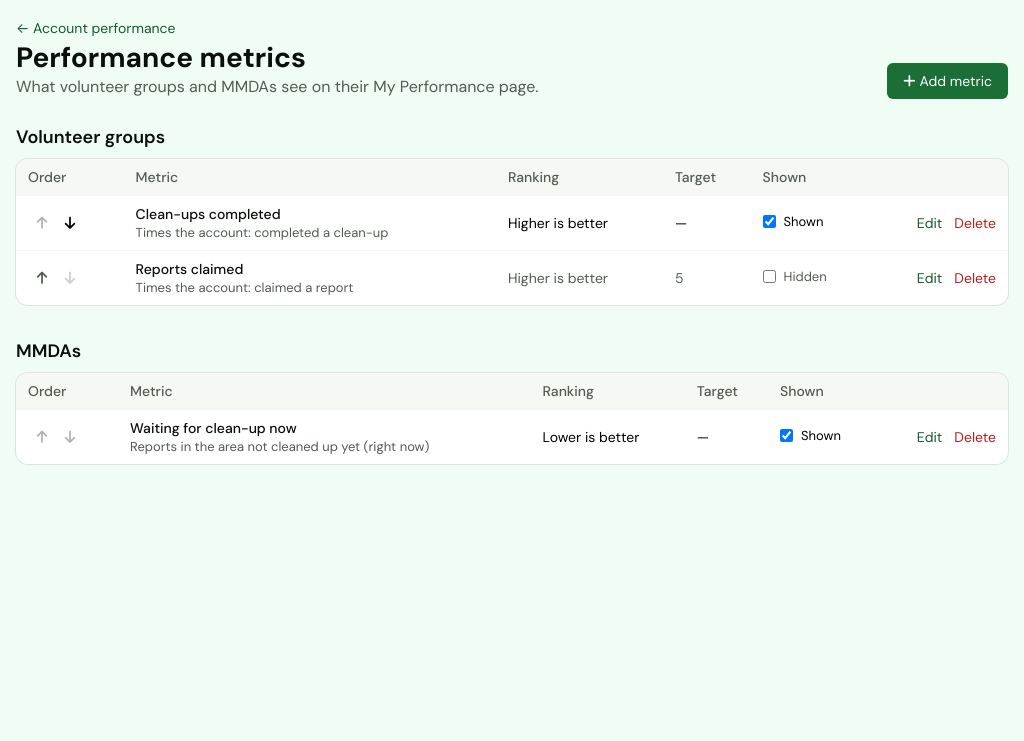
adds a metric: the form shows what is missing, then saves a valid row and logs it
expect the row with test id "row-volunteer-vol_cleanups_completed" is shown: met, box [16,196,1008,250]
Click the button "Add metric": (948, 81) [887,63,1008,99]
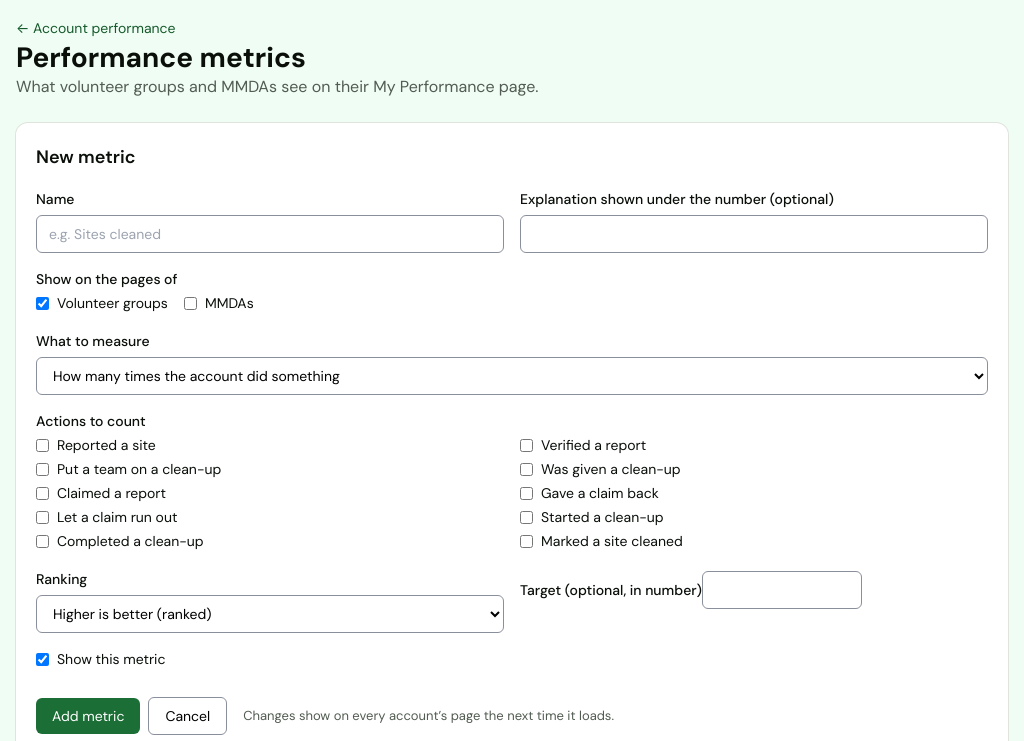
Click the button "Add metric": (88, 716) [36,698,140,734]
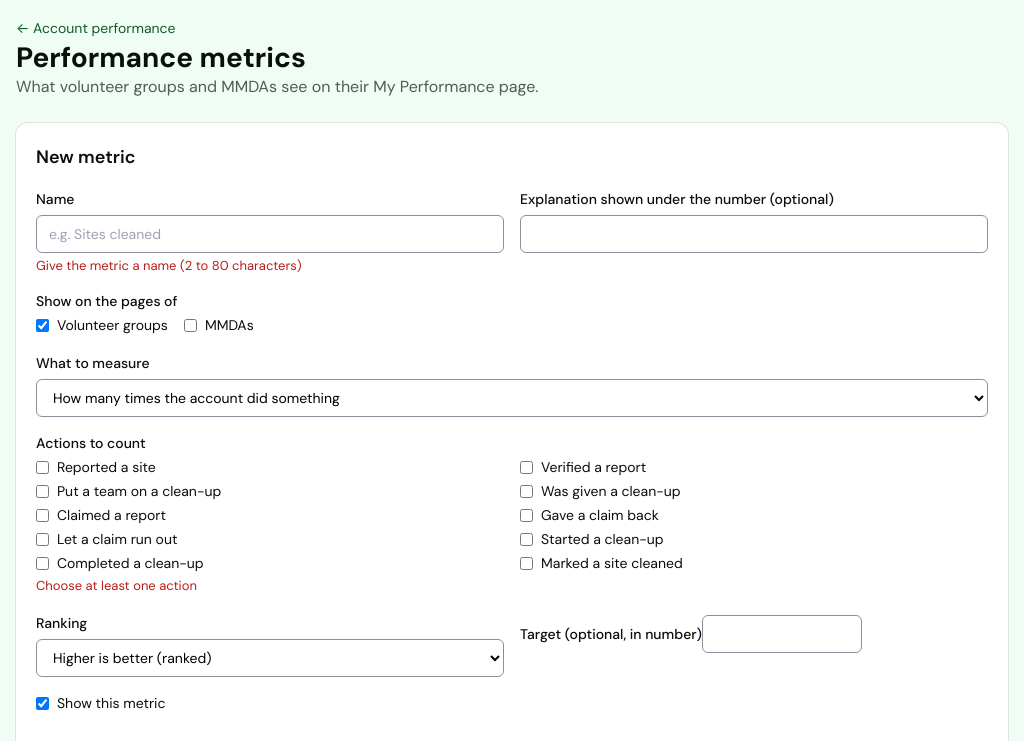
expect the text "Give the metric a name (2 to 80 characters)" is shown: met, box [36,257,302,274]
expect the text "Choose at least one action" is shown: met, box [36,577,197,594]
In the field labelled "Name": (270, 234) [36,215,504,253], type "Clean-ups started"
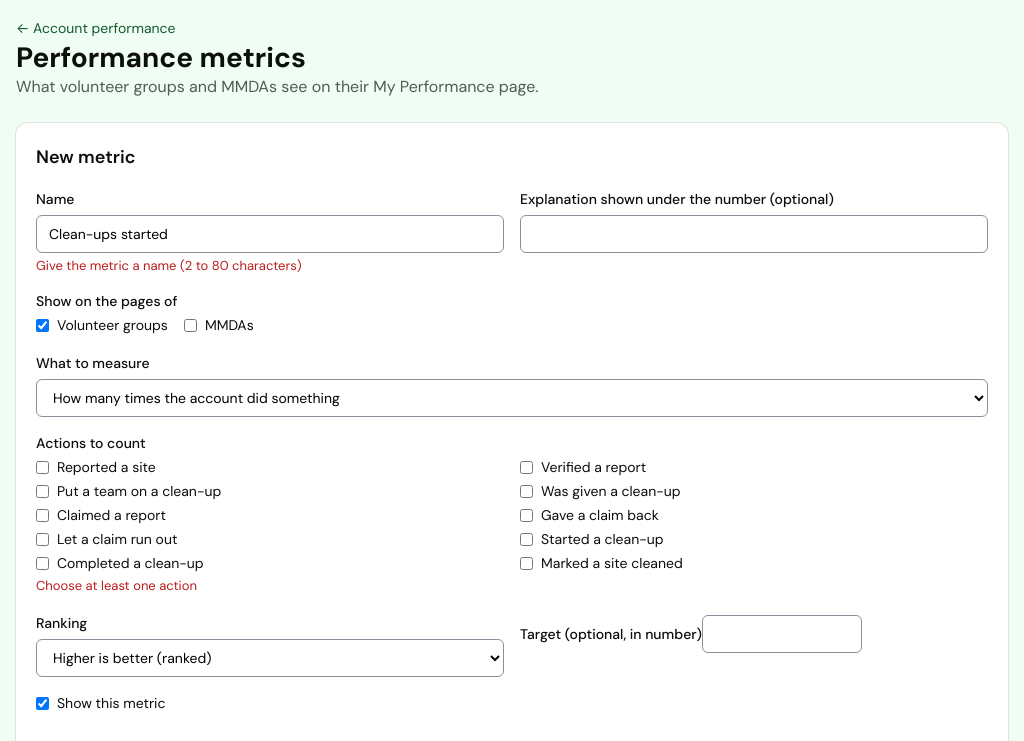
Click the checkbox labelled "Started a clean-up": (526, 539) [520,532,533,546]
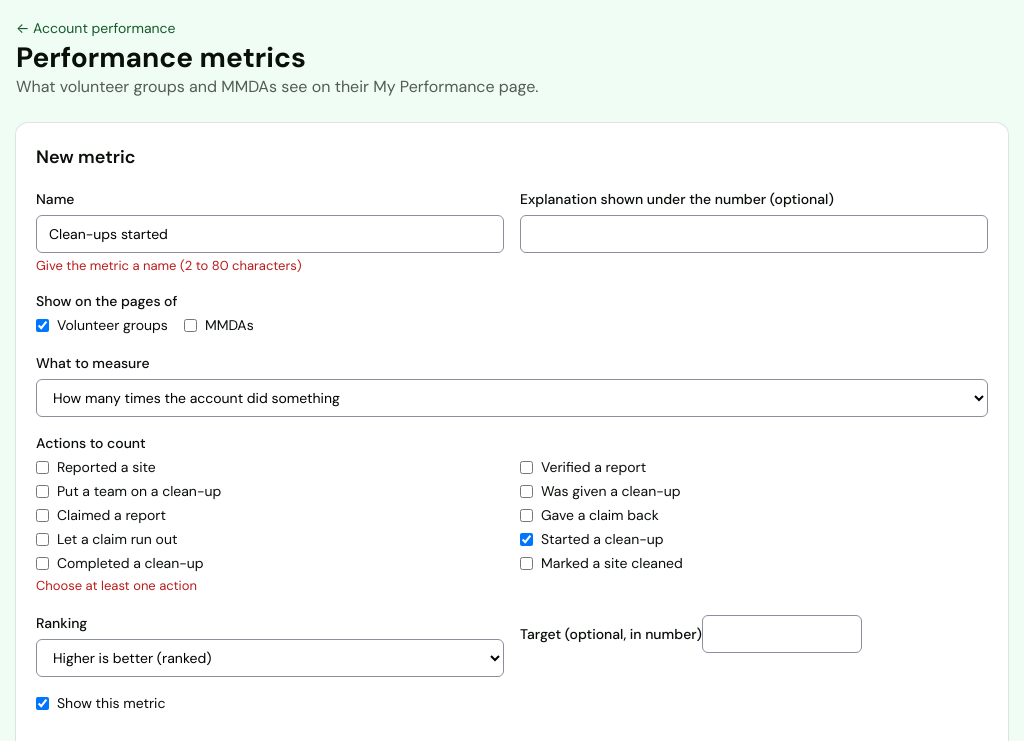
In the field labelled "Target (optional, in number)": (782, 634) [702,615,862,653], type "4"
(page scrolled)
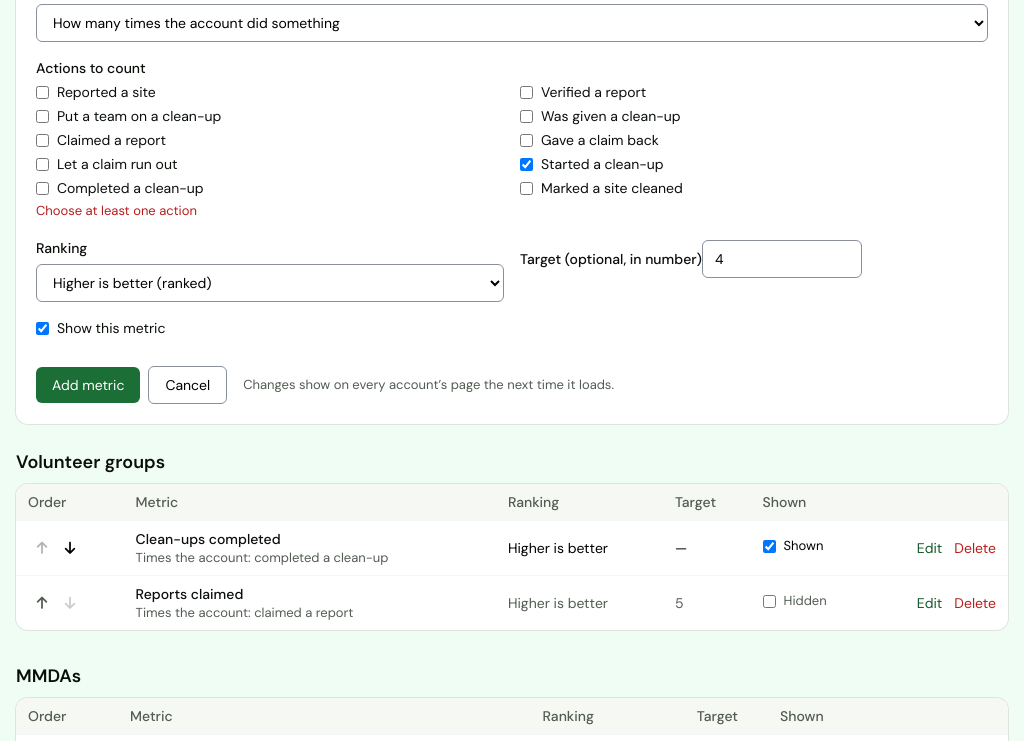
Click the button "Add metric": (88, 384) [36,366,140,402]
(page scrolled)
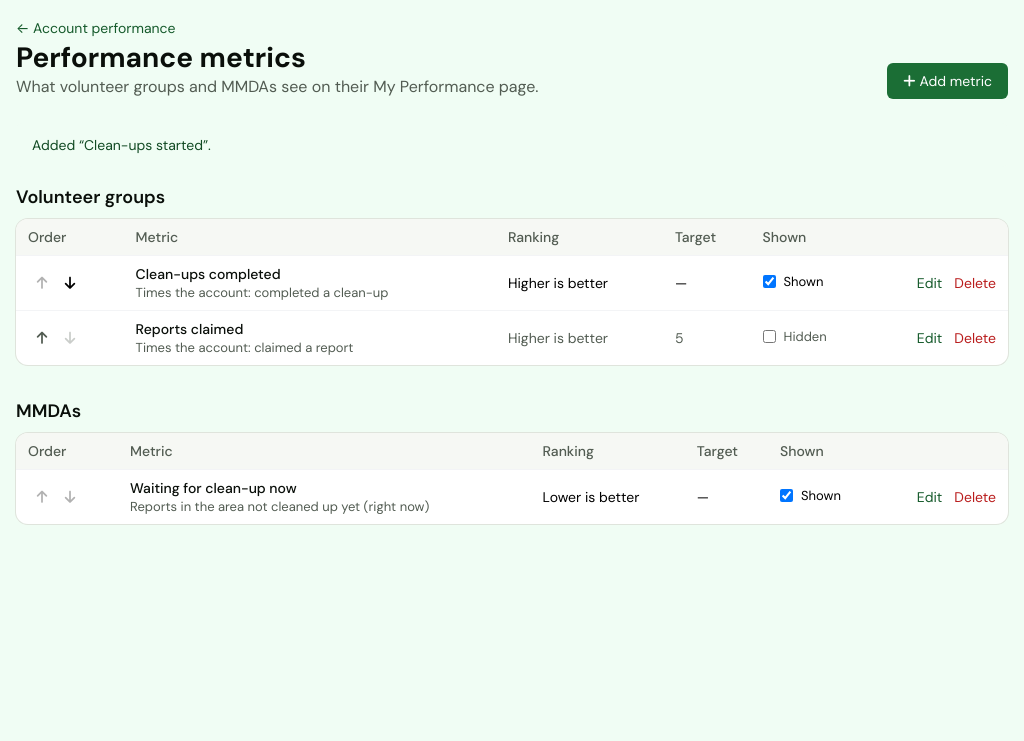
expect the message reads "Added “Clean-ups started”.": met, box [32,136,211,154]
